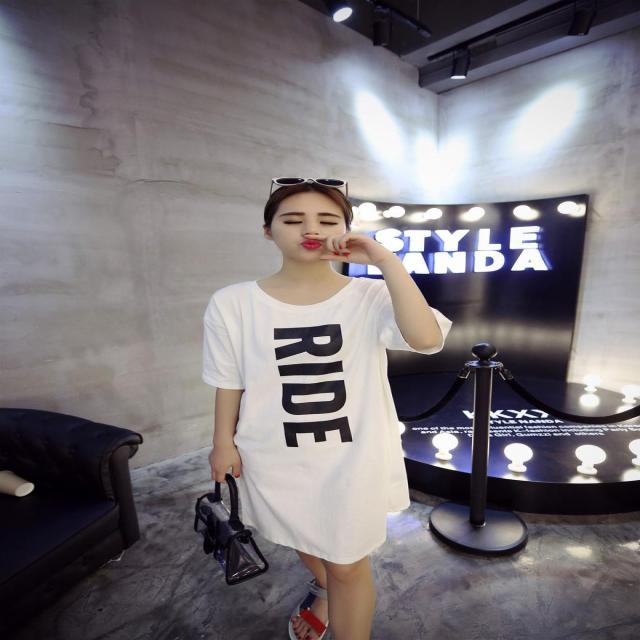short-sleeve-dress: (204, 271, 462, 558)
